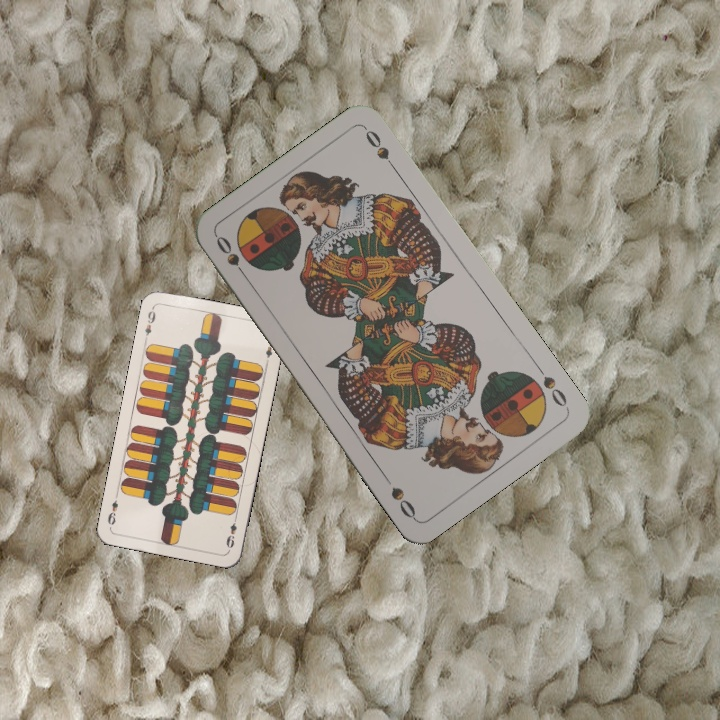E9: (141, 303, 158, 344), (222, 512, 239, 550)
SO: (212, 231, 252, 284), (531, 360, 570, 411)
